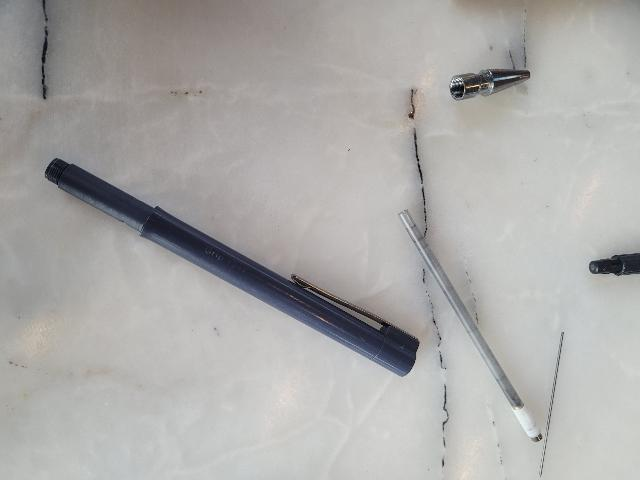Metal: (445, 64, 536, 107)
Plastik: (38, 153, 425, 381), (398, 202, 548, 450)
